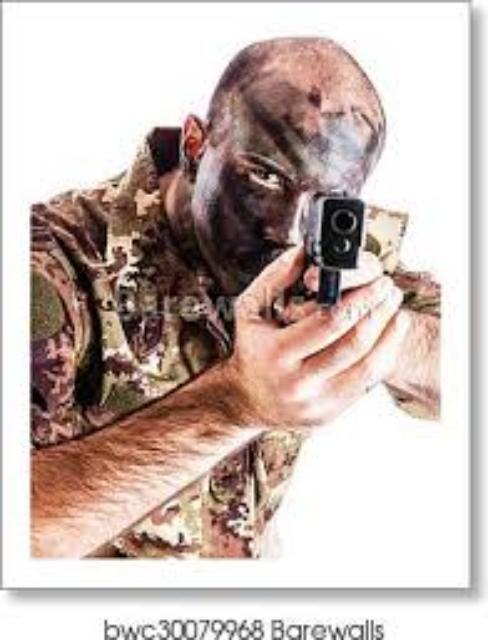other: (30, 36, 434, 560)
